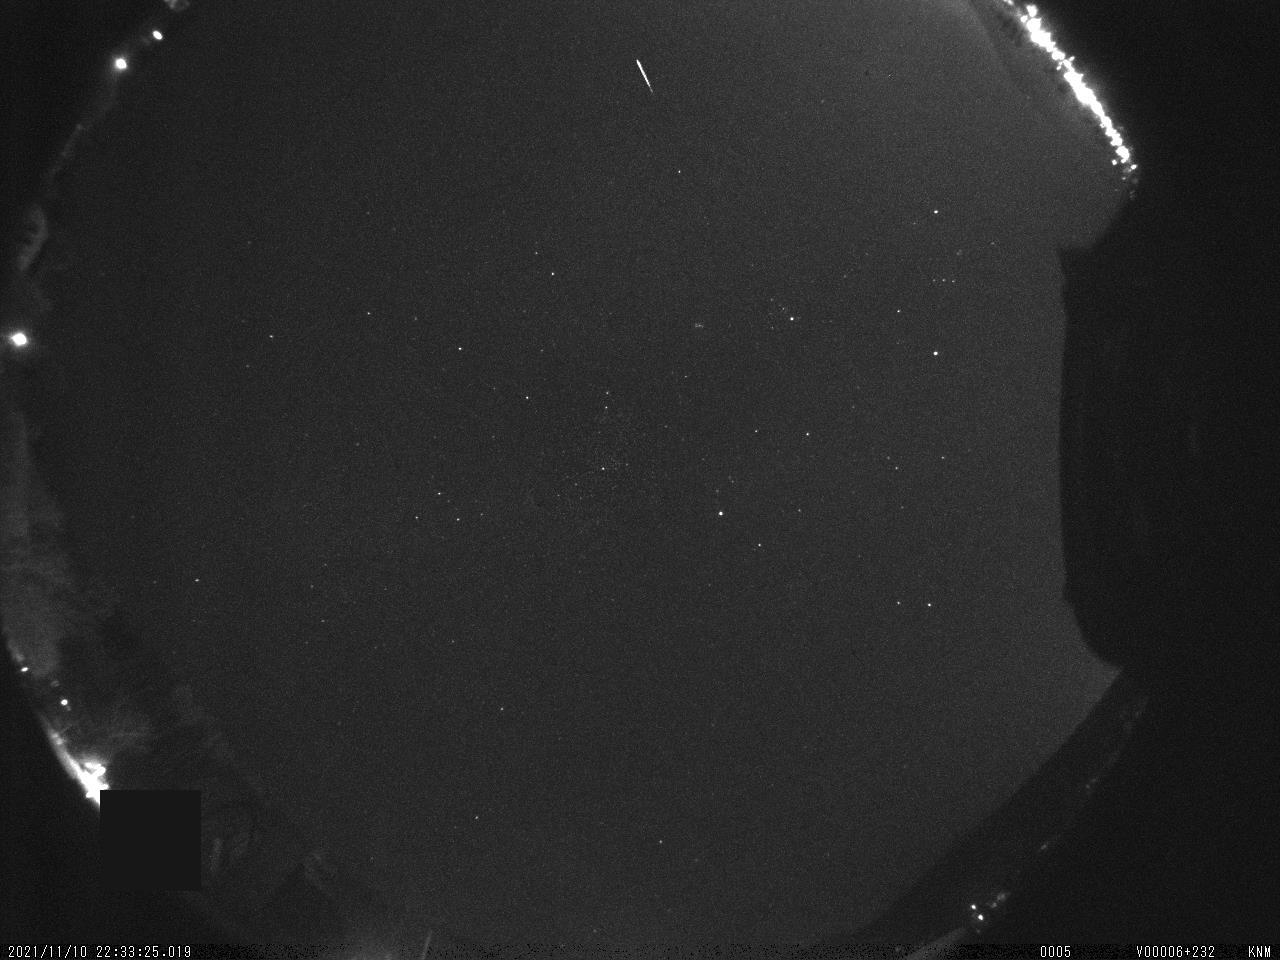meteor: (617, 51, 671, 92)
